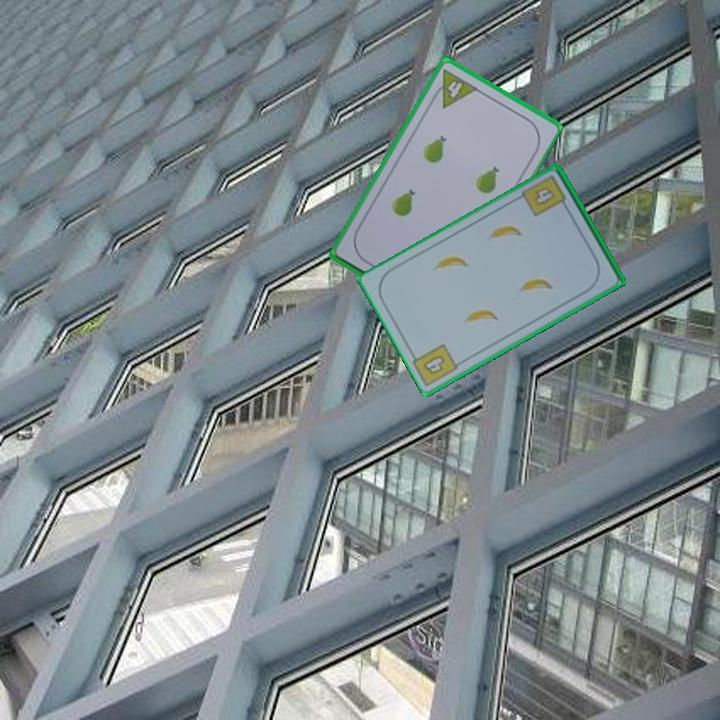4b: (520, 172, 571, 220), (419, 352, 448, 378)
4p: (427, 65, 480, 111)
